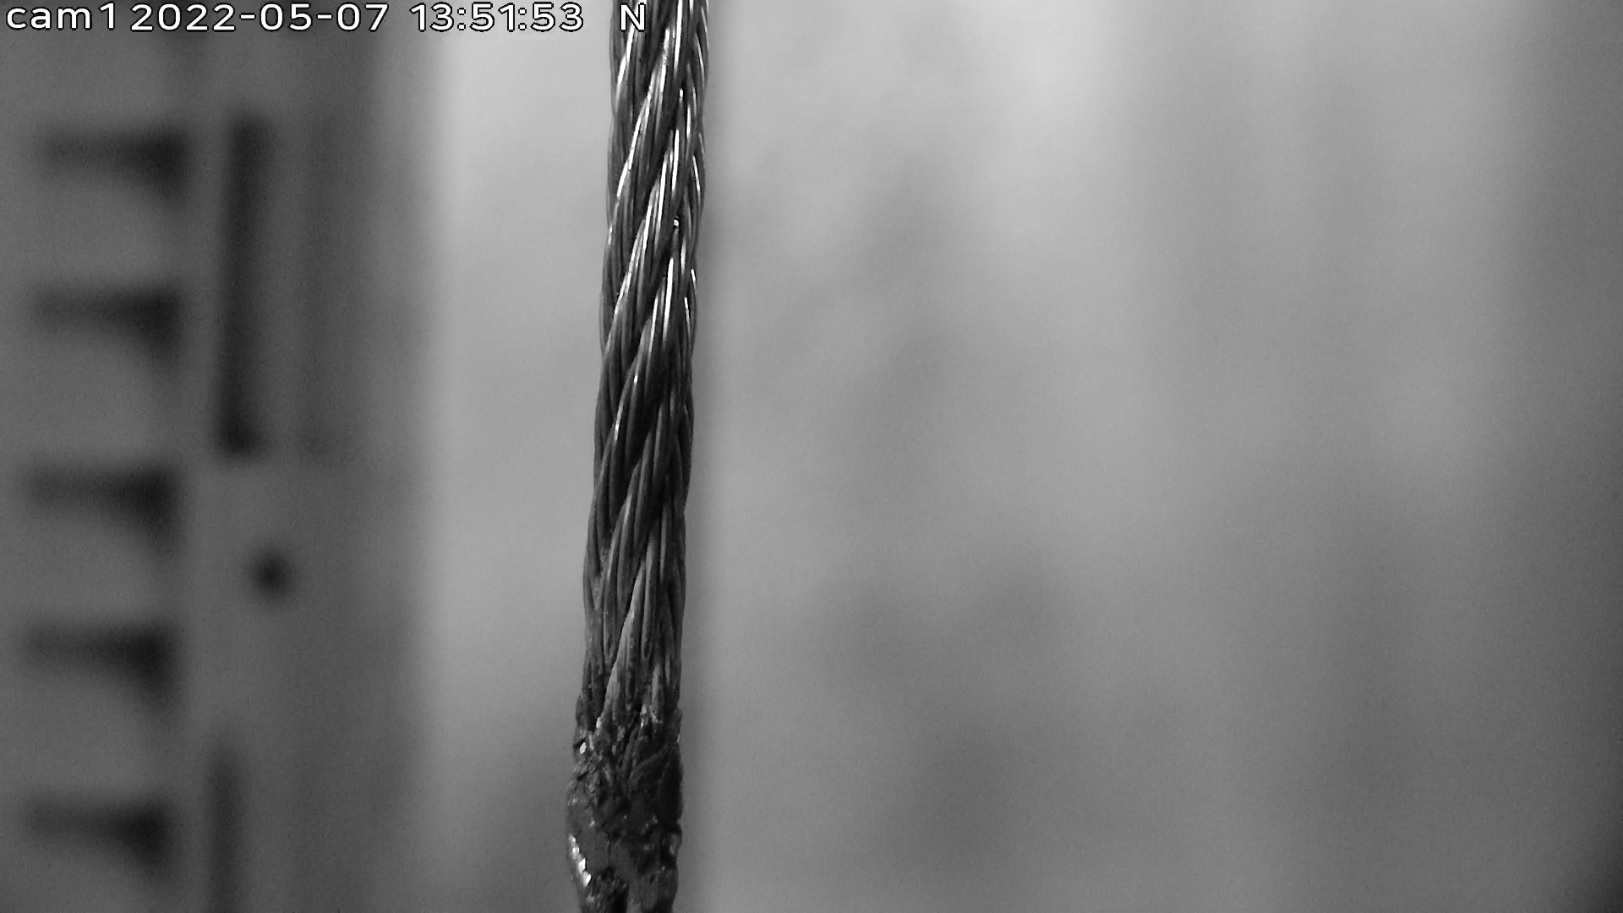spike: (557, 706, 689, 913)
